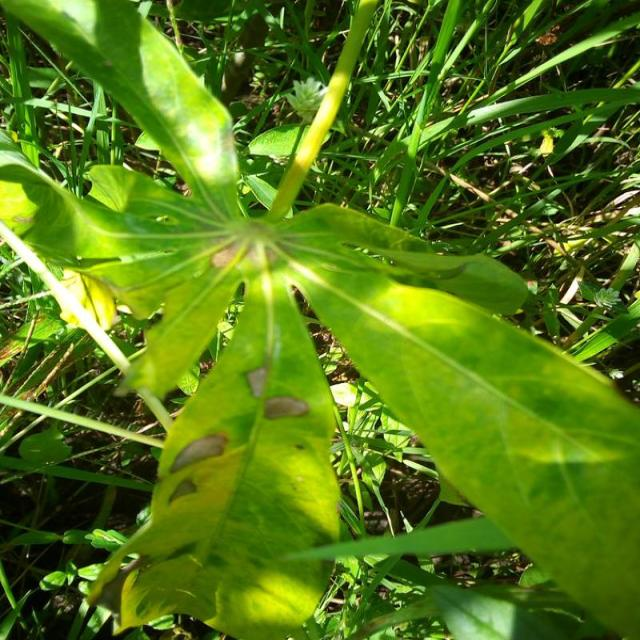cassava leaf: (1, 0, 638, 638), (86, 267, 344, 638)
